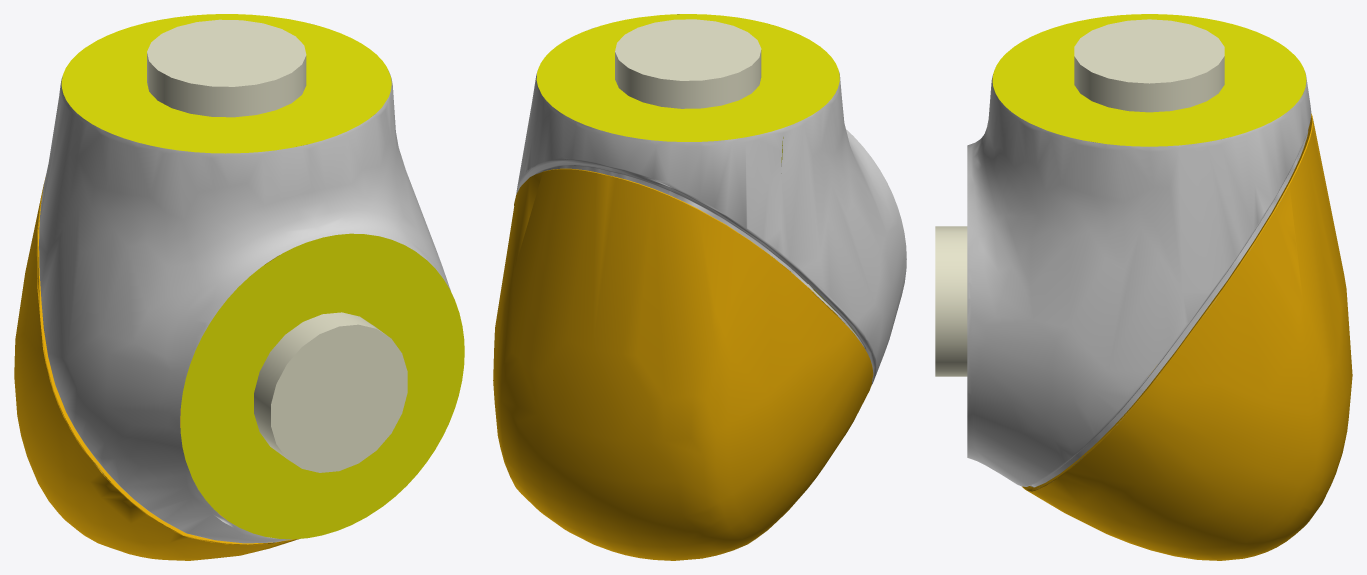
Rendered from IIWA7_Link6.dae.
3 renders of one model, left to right at view 1: azimuth 30°, elevation 25°; view 2: azimuth 150°, elevation 25°; view 3: azimuth 270°, elevation 25°, orthographic. The views are drawn at different scales.
Visible parts, largest first — view 1: MeshFeature3_008; view 2: MeshFeature3_008; view 3: MeshFeature3_008.
Part boxes in pixels (<box>): MeshFeature3_008: <box>14,14,464,560</box>; MeshFeature3_008: <box>493,14,906,560</box>; MeshFeature3_008: <box>935,14,1352,560</box>.
Size of the model in its own units: 0.1323 by 0.1374 by 0.1771.
